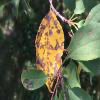Apple Scab Leaf: (36, 8, 62, 94), (65, 26, 99, 62), (21, 67, 47, 93)
